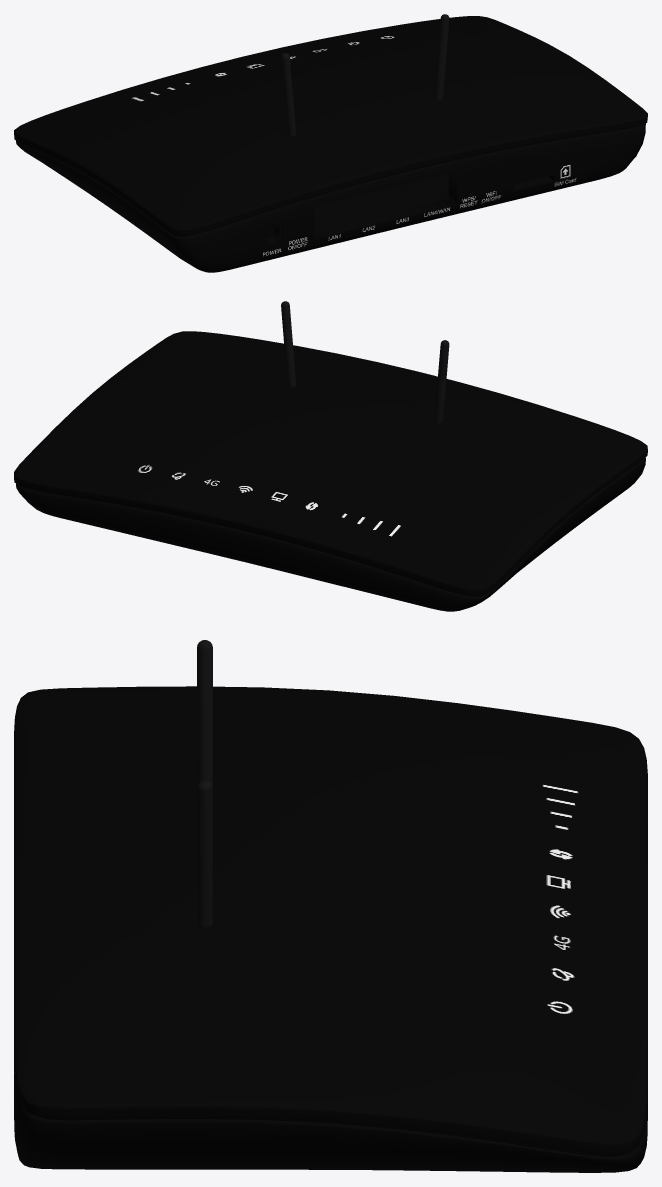
File: rout.glb
The picture shows the model from 3 angles, top to bottom: view 1: azimuth 30°, elevation 25°; view 2: azimuth 150°, elevation 25°; view 3: azimuth 270°, elevation 25°; orthographic projection. The views are drawn at different scales.
Parts seen in each view (by area): view 1: Object_5, Object_6; view 2: Object_5, Object_6; view 3: Object_5, Object_6.
Boxes of the visible parts, x1,y1,x2,y2 form: Object_5: (14,16,647,272); Object_6: (281,14,449,136); Object_5: (14,331,647,611); Object_6: (281,301,449,423); Object_5: (14,686,647,1172); Object_6: (197,640,212,927).
Size of the model in its own units: 41.03 by 12.84 by 26.18.
5 materials, 1 textured.
